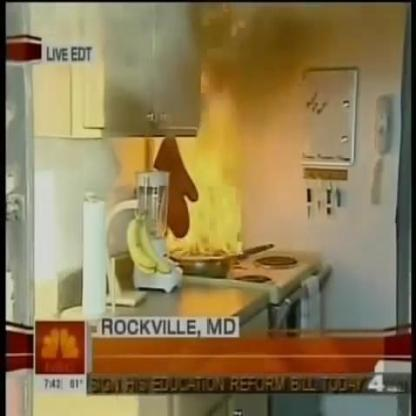fire: (156, 79, 245, 261)
